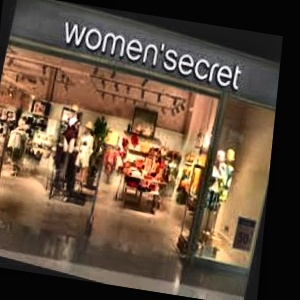women_secret: (232, 33, 282, 51)
